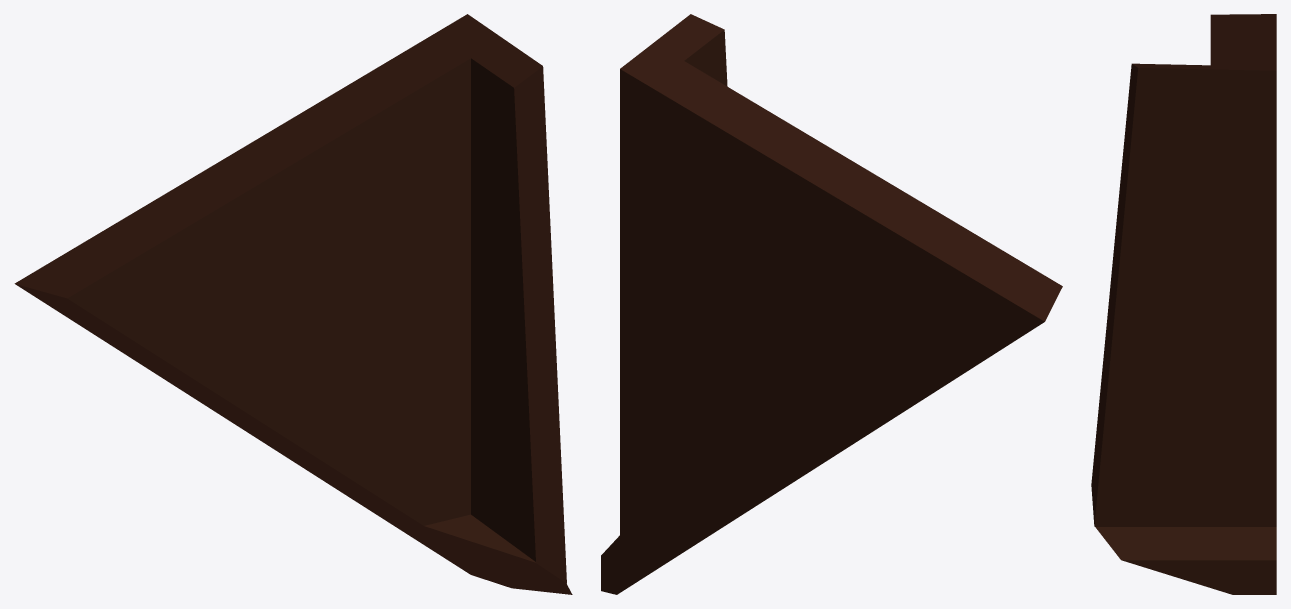
The model's file is Placard_Part_1.fbx.
3 renders of one model, left to right at view 1: azimuth 30°, elevation 25°; view 2: azimuth 150°, elevation 25°; view 3: azimuth 270°, elevation 25°, orthographic. The views are drawn at different scales.
Visible parts, largest first — view 1: Placard_Part_1; view 2: Placard_Part_1; view 3: Placard_Part_1.
Part boxes in pixels (x1,y1,x2,y2): Placard_Part_1: (14,14,572,594); Placard_Part_1: (601,14,1062,594); Placard_Part_1: (1091,14,1276,594).
Bounding box in the file's own units: 103 × 118 × 38.22.
